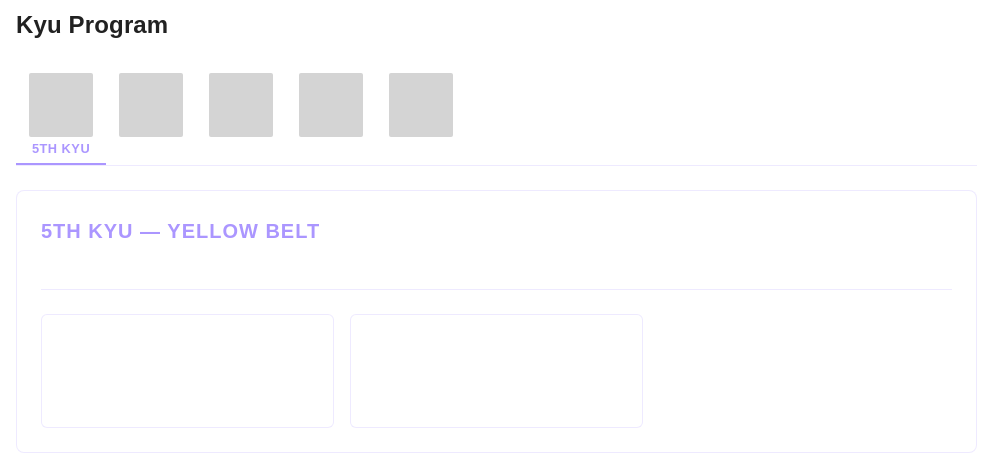
Test: KyuProgram page › tab switching › shows 2nd Kyu level content when the tab is clicked
Step 1. Click the tab "2nd Kyu" → (331, 115), box [286,65,376,165]
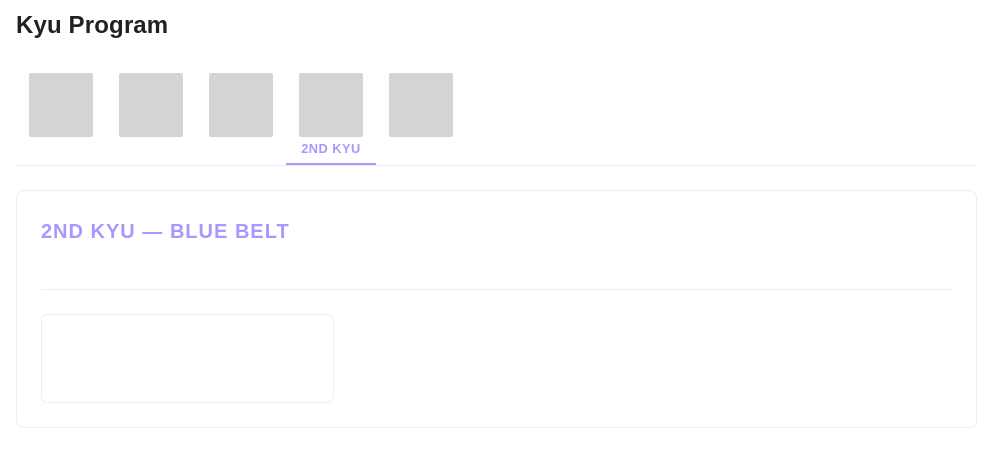
Expected: the heading "2ND KYU — BLUE BELT" is shown, [41,220,290,242]
